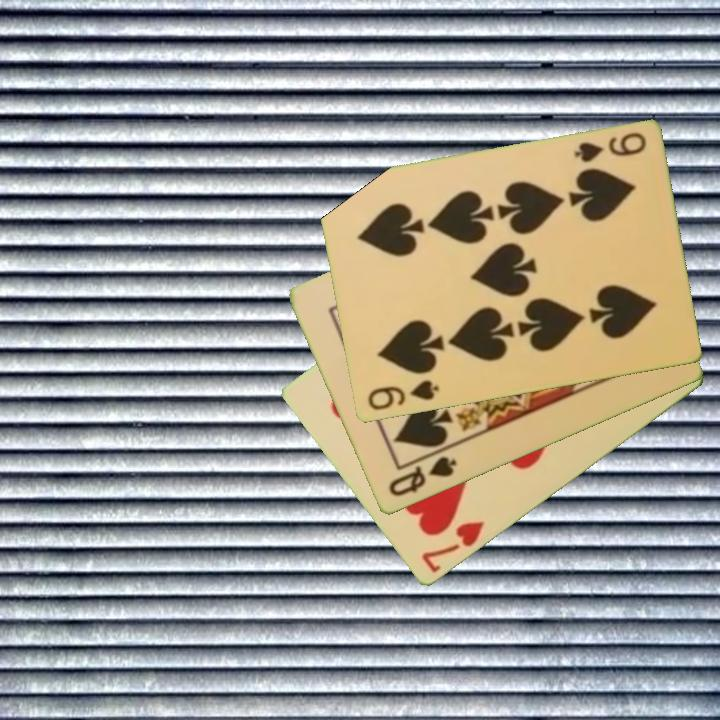7h: (417, 518, 488, 577)
9s: (570, 129, 649, 166), (364, 377, 441, 414)
Qs: (385, 453, 460, 501)
